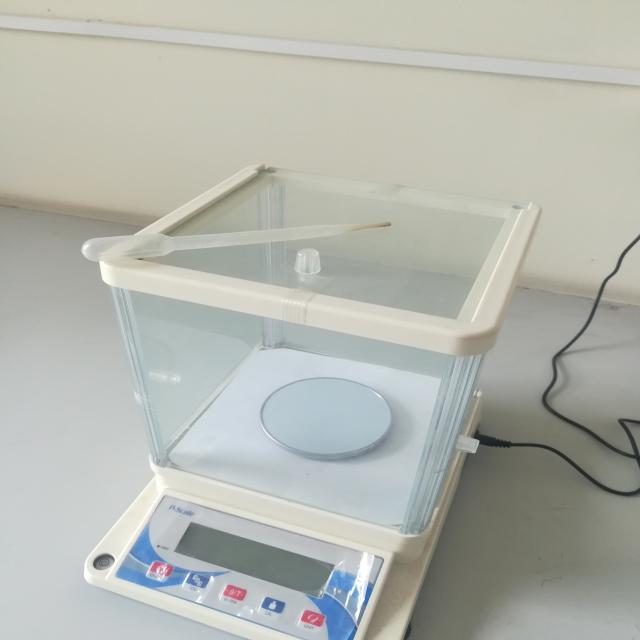Pipette: (56, 176, 428, 287)
